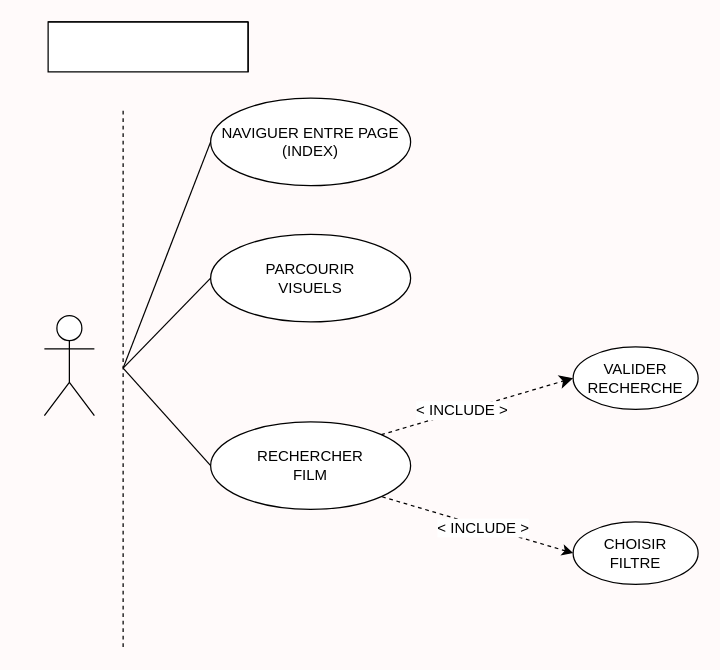
Image size: 720x670. Some labels were removed from this diagram. The shapes that lost their labels are listed below. From the top down, each one's box as (x1, y1, x2, y2) in pixels, then its label:
(47, 21, 248, 72): CinéAnalytics (site web)
(43, 314, 94, 416): UTILISATEUR
